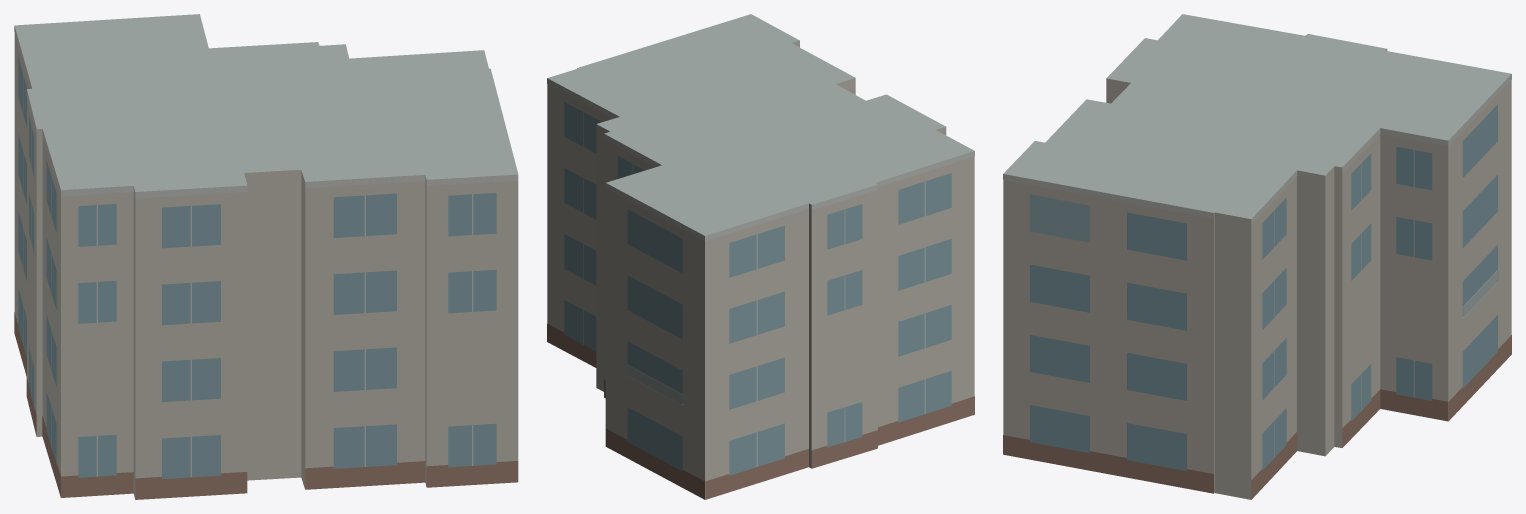
Rendered from survey-upis-32658493.glb.
3 views of the same model, side by side, from view 1: azimuth 30°, elevation 25°; view 2: azimuth 150°, elevation 25°; view 3: azimuth 270°, elevation 25° (orthographic). The views are drawn at different scales.
Visible parts, largest first — view 1: survey-upis-32658493.tmp; view 2: survey-upis-32658493.tmp; view 3: survey-upis-32658493.tmp.
Part boxes in pixels (box(x1,y1,x2,y2)): survey-upis-32658493.tmp: box(14, 14, 518, 499); survey-upis-32658493.tmp: box(547, 14, 974, 499); survey-upis-32658493.tmp: box(1003, 14, 1511, 499).
Size of the model in its own units: 18.58 by 11.85 by 19.47.
